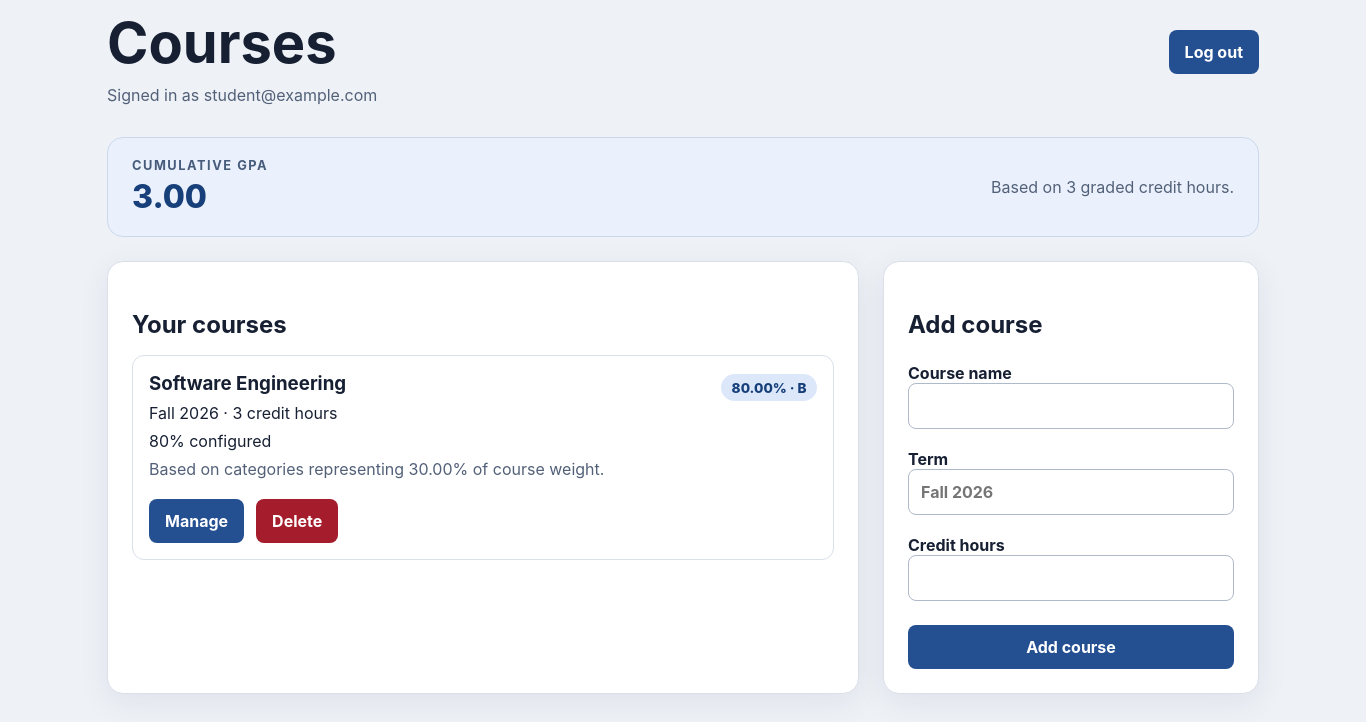
Scenario: What-If calculator › displays a server validation error
Click the button "Manage". click: coordinates (197, 521)
box: [149,499,244,543]
(page scrolled)
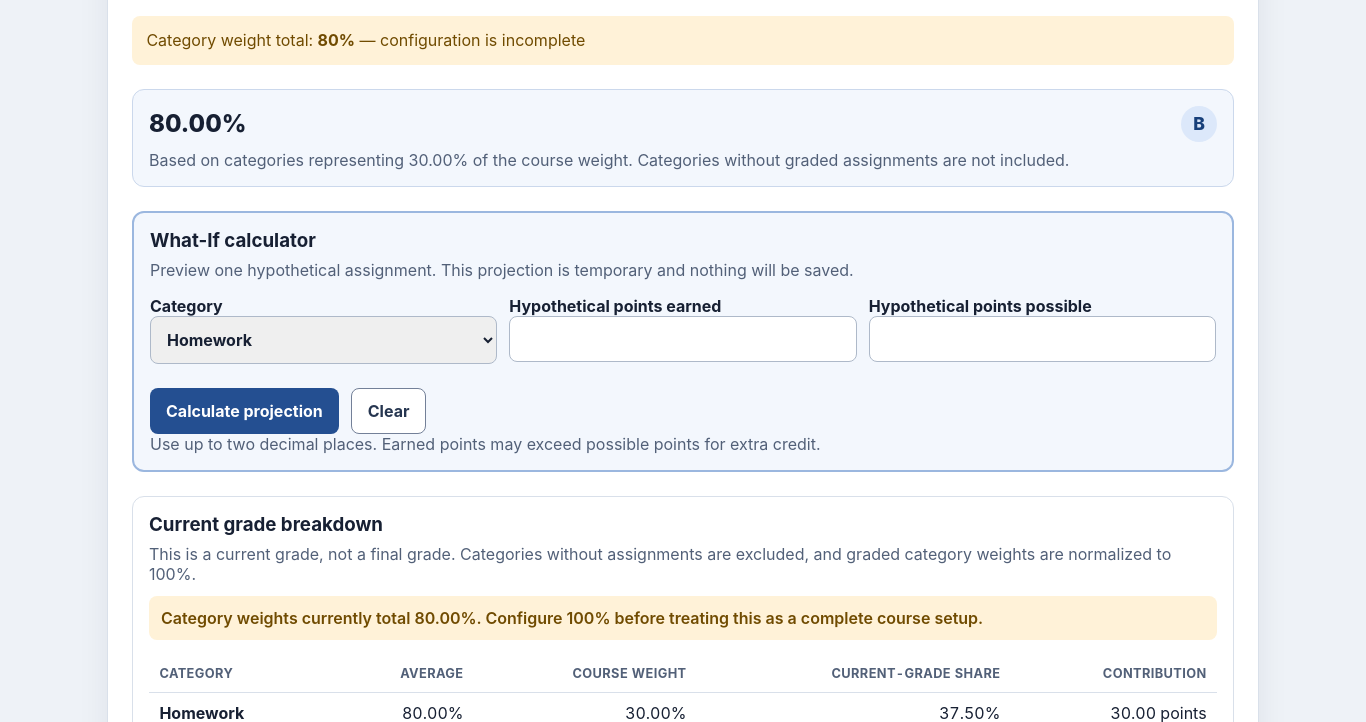
Expected: the heading "What-If calculator" is shown, [150,229,316,252]
Type "92" into the number field labelled "Hypothetical points earned". click: coordinates (683, 339)
box: [509,316,857,362]
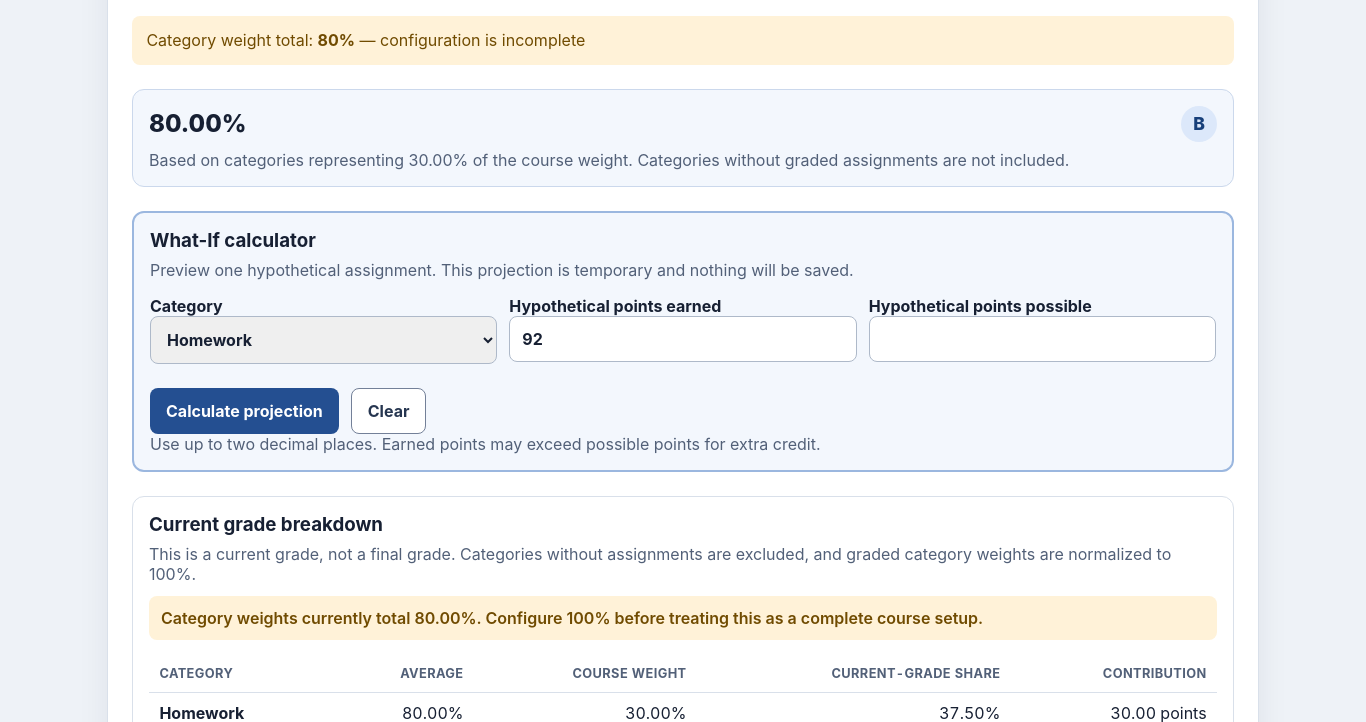
Type "100" into the number field labelled "Hypothetical points possible". click: coordinates (1042, 339)
box: [869,316,1216,362]
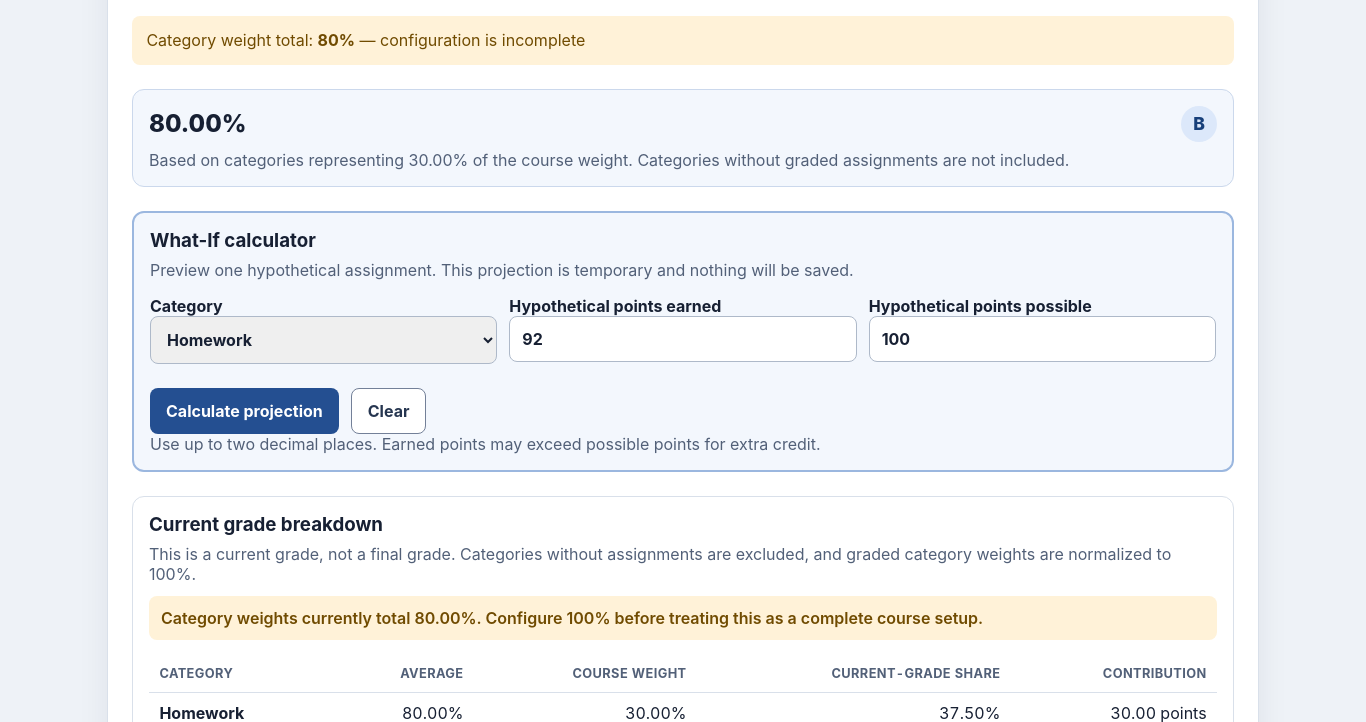
Click the button "Calculate projection". click: coordinates (244, 411)
box: [150,388,339,434]
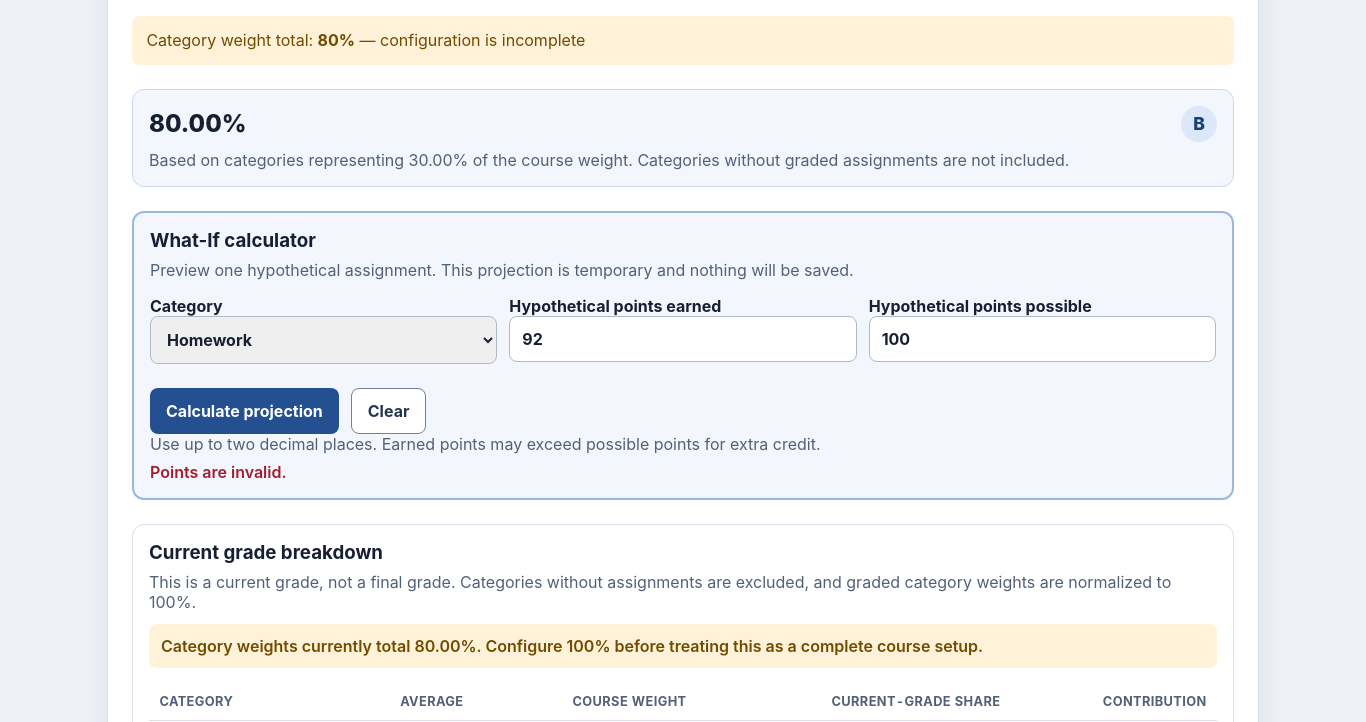
Expected: the message reads "Points are invalid.", [150,462,287,482]
